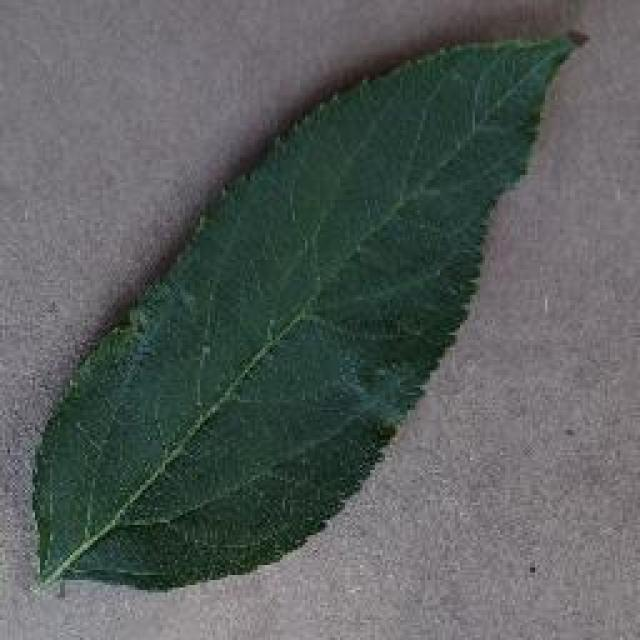apple healthy: (25, 25, 587, 595)
